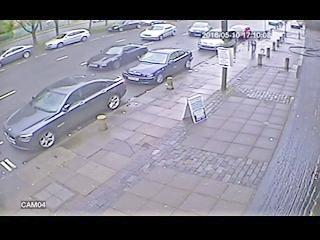Car: (13, 76, 122, 138), (128, 50, 192, 82), (93, 45, 139, 68), (197, 28, 235, 53), (45, 29, 90, 49), (1, 44, 34, 68), (140, 24, 177, 41), (107, 20, 142, 32), (188, 21, 213, 37), (229, 24, 251, 40), (140, 20, 166, 26), (268, 20, 284, 28), (290, 21, 302, 29)
Not Accident: (0, 26, 92, 69), (94, 43, 193, 82)
